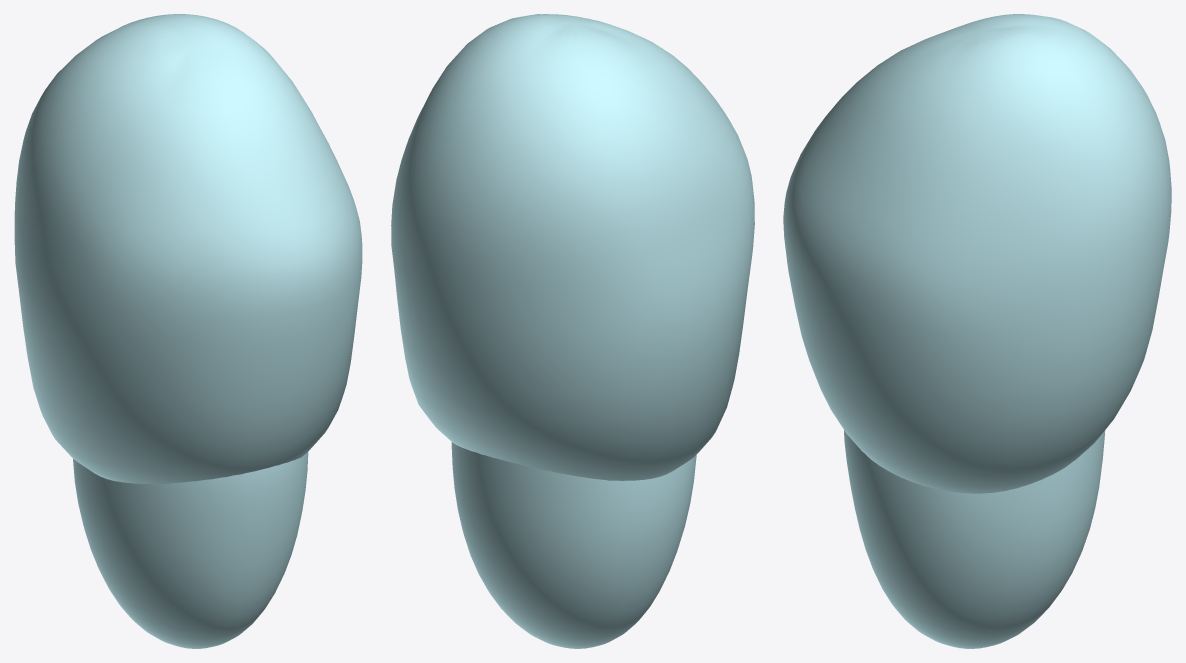
File: cut.fbx
3 views of the same model, side by side, from view 1: azimuth 30°, elevation 25°; view 2: azimuth 150°, elevation 25°; view 3: azimuth 270°, elevation 25° (orthographic). The views are drawn at different scales.
Parts seen in each view (by area): view 1: cut_, cut1; view 2: cut_, cut1; view 3: cut_, cut1.
Part boxes in pixels (box(x1,y1,x2,y2)): cut_: box(14, 14, 362, 484); cut1: box(73, 452, 308, 648); cut_: box(391, 14, 754, 480); cut1: box(451, 442, 696, 648); cut_: box(783, 14, 1171, 493); cut1: box(844, 430, 1105, 648).
Size of the model in its own units: 171 by 340 by 193.
